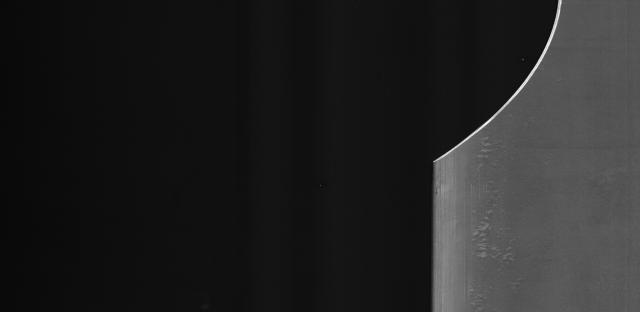crescent_gap: (400, 0, 582, 170)
